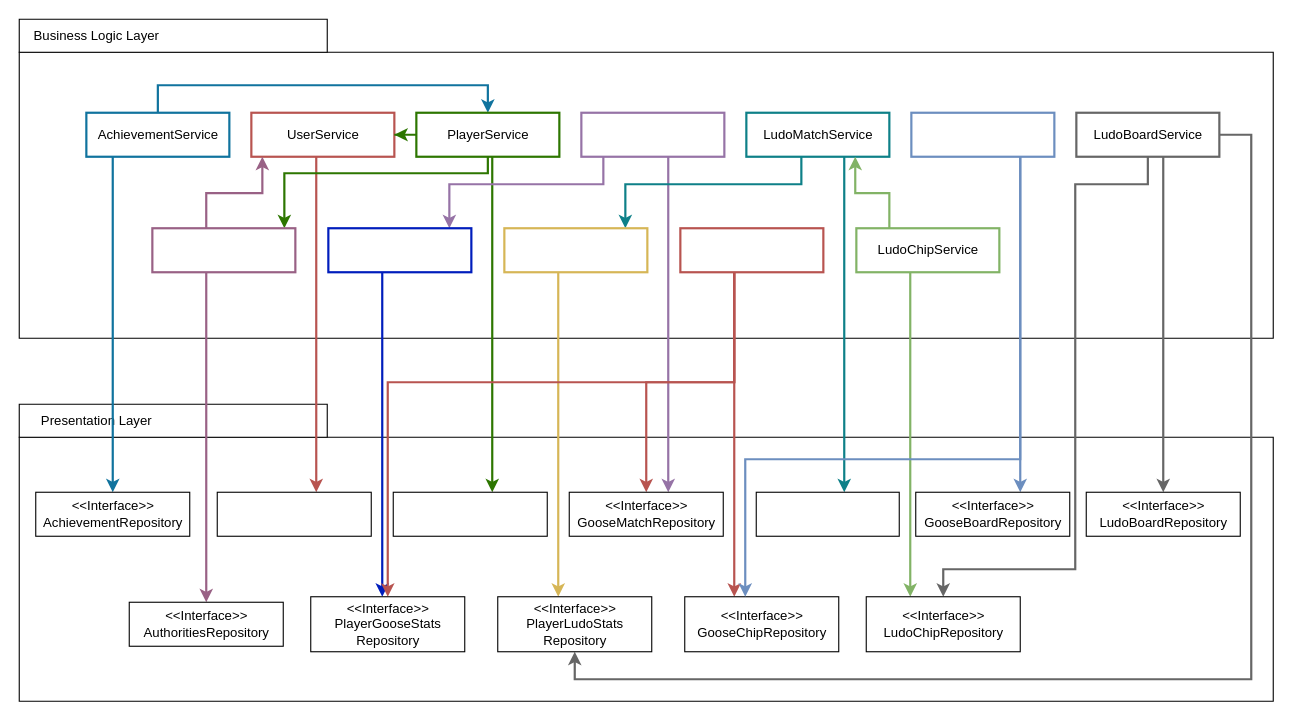
Image size: 1293x721. Some labels were removed from this diagram. The box of each missing label's shape, as (x1, y1, x2, y2) in pixels:
<<Interface>> LudoMatchRepository: (755, 491, 899, 536)
<<Interface>> PlayerRepository: (392, 491, 547, 536)
<<Interface>> UserRepository: (216, 491, 371, 536)
AuthoritiesService: (151, 227, 296, 273)
GooseBoardService: (910, 111, 1055, 157)
GooseChipService: (679, 227, 824, 273)
GooseMatchService: (580, 111, 725, 157)
PlayerGooseStats Service: (327, 227, 472, 273)
PlayerLudoStats Service: (503, 227, 648, 273)
